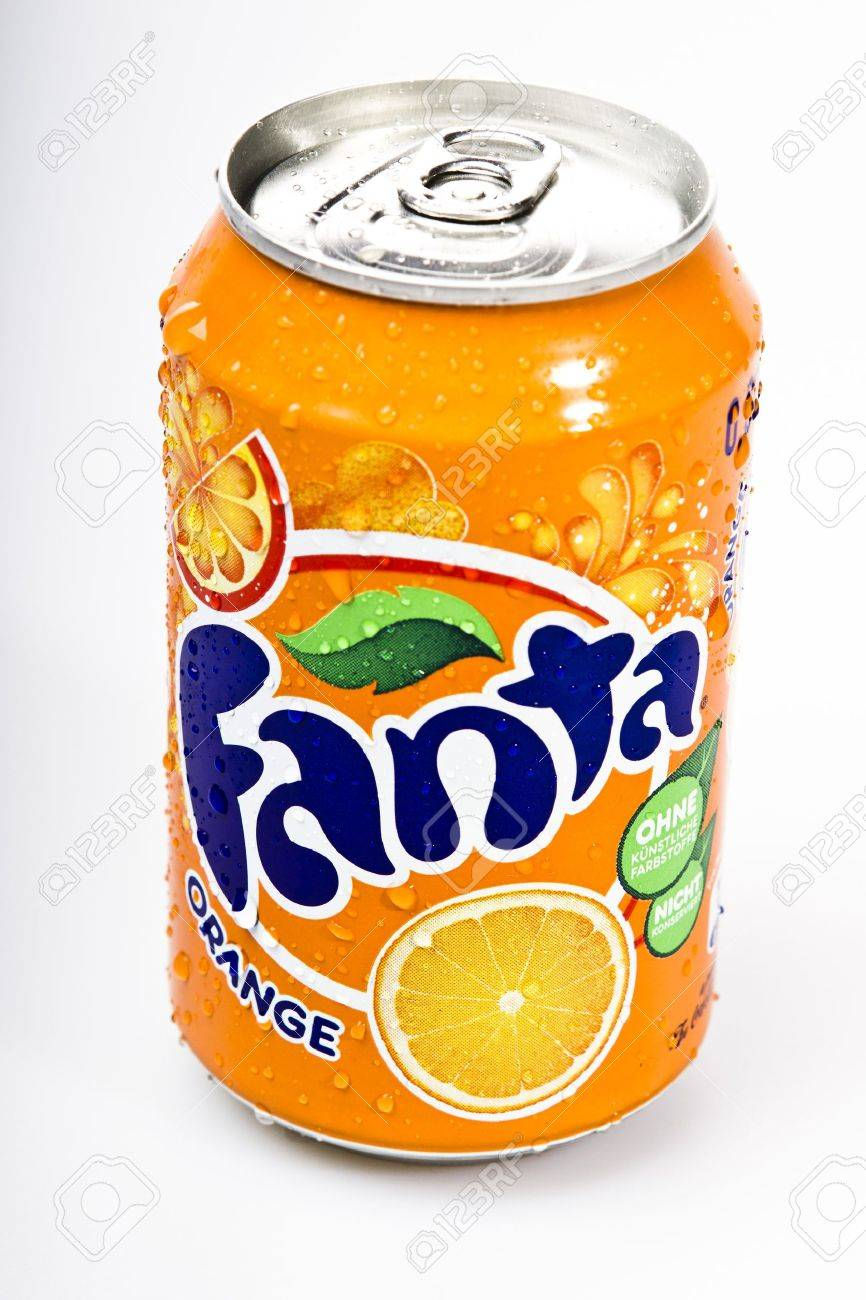fanta_can: (157, 80, 759, 1173)
